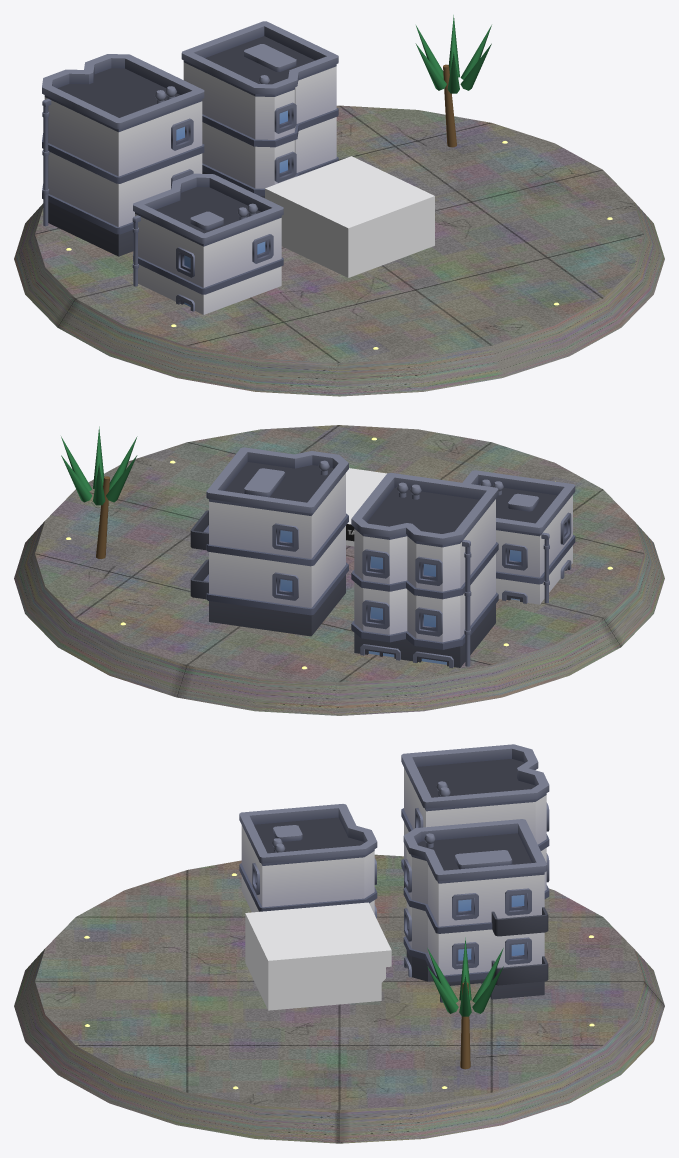
Rendered from town-T2.glb.
The picture shows the model from 3 angles, top to bottom: view 1: azimuth 30°, elevation 25°; view 2: azimuth 150°, elevation 25°; view 3: azimuth 270°, elevation 25°; orthographic projection.
Visible parts, largest first — view 1: object 1, building-a, building-b, building-c, Mesh_noExport, object 18; view 2: object 1, building-a, building-b, building-c, Mesh_noExport, object 18; view 3: object 1, building-b, Mesh_noExport, building-c, building-a.
Part boxes in pixels (bbox=[...]): object 1: bbox=[14, 105, 664, 396]; building-a: bbox=[42, 54, 204, 256]; building-b: bbox=[181, 21, 338, 198]; building-c: bbox=[132, 173, 283, 314]; Mesh_noExport: bbox=[265, 156, 434, 277]; object 18: bbox=[443, 64, 456, 147]; object 1: bbox=[14, 425, 664, 715]; building-a: bbox=[351, 472, 498, 668]; building-b: bbox=[190, 447, 348, 636]; building-c: bbox=[462, 470, 575, 604]; Mesh_noExport: bbox=[346, 468, 386, 546]; object 18: bbox=[96, 476, 109, 558]; object 1: bbox=[14, 854, 664, 1143]; building-b: bbox=[403, 819, 548, 1002]; Mesh_noExport: bbox=[245, 902, 391, 1010]; building-c: bbox=[239, 804, 377, 918]; building-a: bbox=[401, 744, 549, 898].
Size of the model in its own units: 6.2 by 1.72 by 6.2.
Materials: 17 (6 with a texture image).
